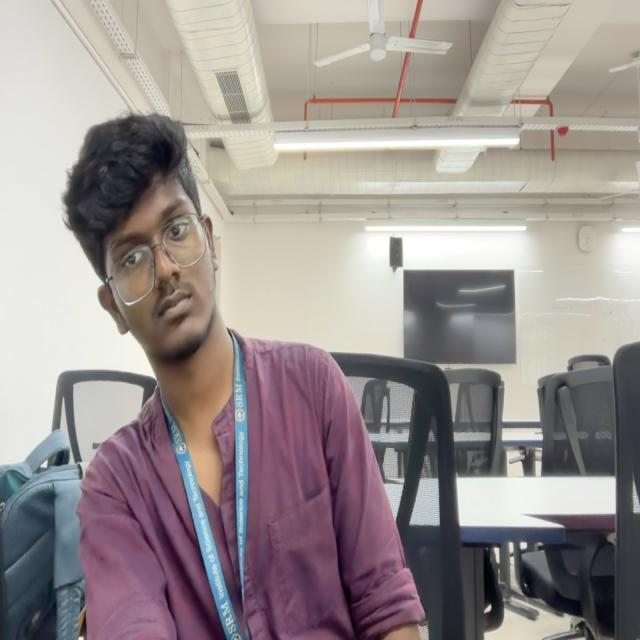ravindra: (62, 113, 220, 366)
